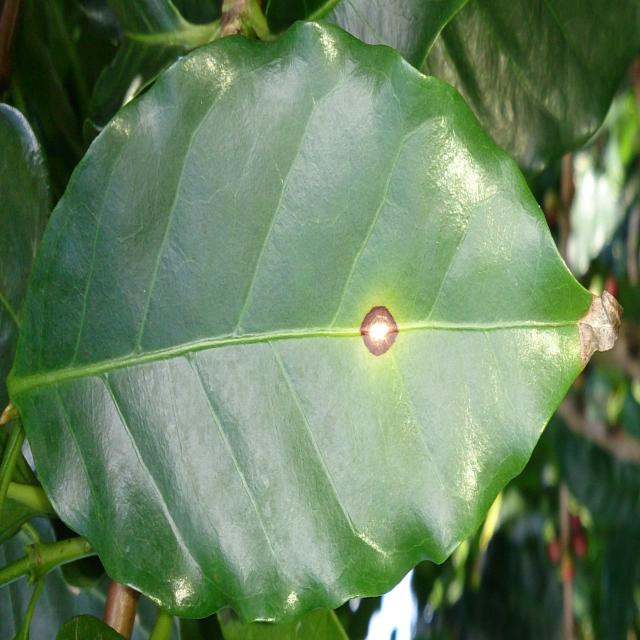Enfermedad-Mancha-de-hierro: (9, 23, 611, 622)
